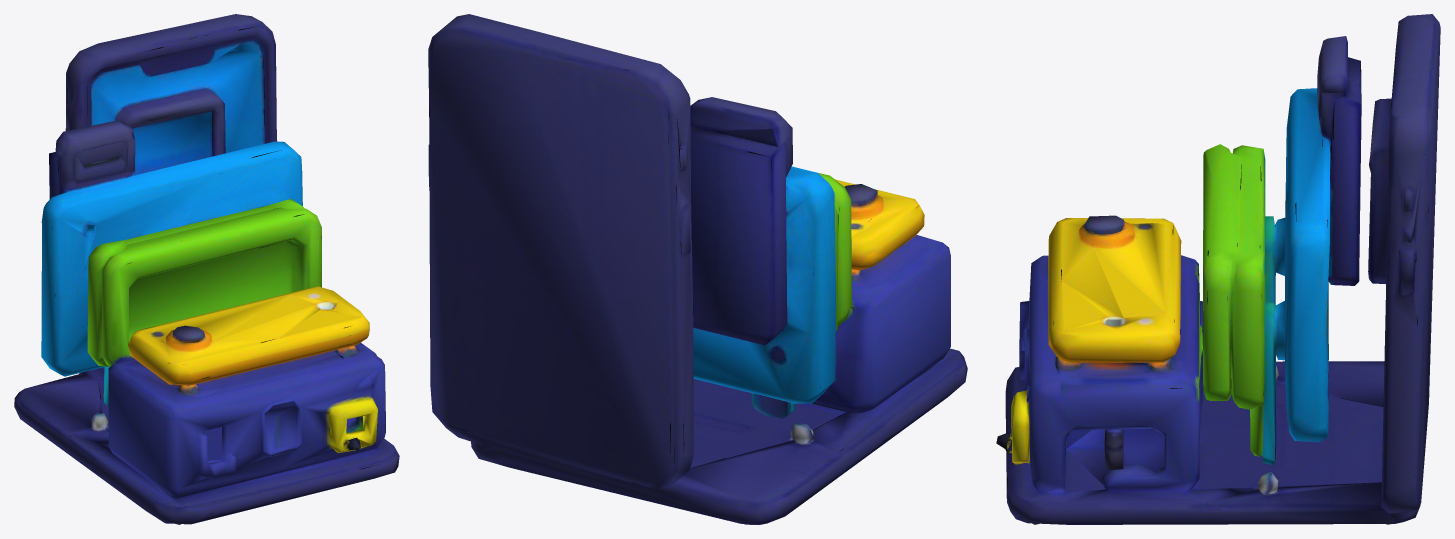
File: phone_rack.glb
The picture shows the model from 3 angles, left to right: view 1: azimuth 30°, elevation 25°; view 2: azimuth 150°, elevation 25°; view 3: azimuth 270°, elevation 25°; orthographic projection. The views are drawn at different scales.
Visible parts, largest first — view 1: low; view 2: low; view 3: low.
Part boxes in pixels (<box>): low: <box>14,14,399,524</box>; low: <box>428,14,967,524</box>; low: <box>996,14,1440,524</box>.
Size of the model in its own units: 0.8097 by 0.9787 by 0.9323.
Materials: 1 (1 with a texture image).
